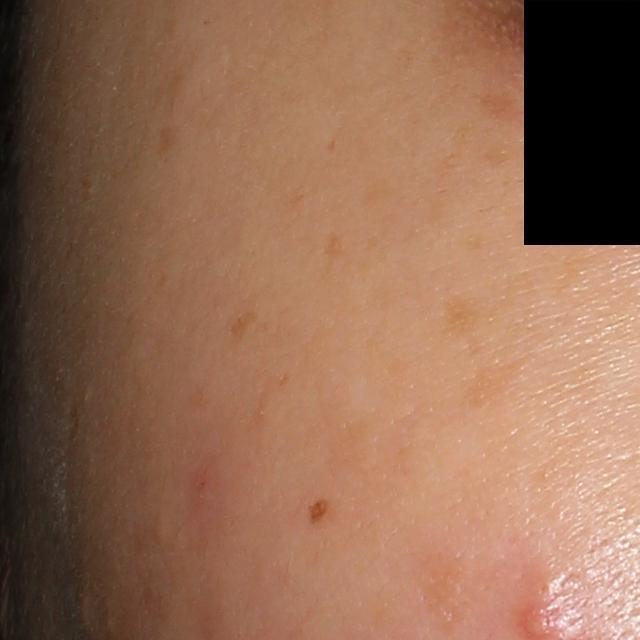melasma: (455, 348, 524, 416), (433, 122, 481, 182), (435, 296, 490, 346), (466, 91, 521, 125), (228, 303, 260, 341), (484, 140, 520, 170), (318, 234, 343, 259)
nevus: (303, 496, 329, 523)
